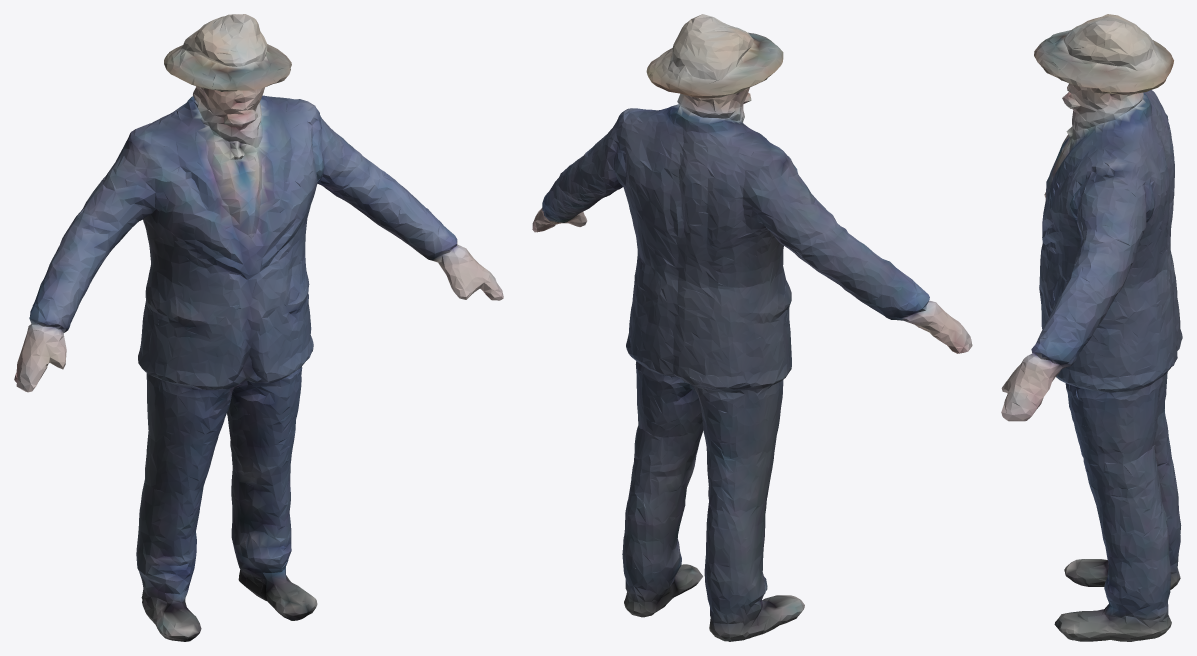
The model's file is lula_triposr.glb.
The picture shows the model from 3 angles, left to right: view 1: azimuth 30°, elevation 25°; view 2: azimuth 150°, elevation 25°; view 3: azimuth 270°, elevation 25°; orthographic projection.
Visible parts, largest first — view 1: world; view 2: world; view 3: world.
Part boxes in pixels (x1=…): world: x1=14, y1=14, x2=503, y2=641; world: x1=532, y1=14, x2=972, y2=641; world: x1=1001, y1=14, x2=1182, y2=641.
Size of the model in its own units: 1.41 by 1.76 by 0.485.
